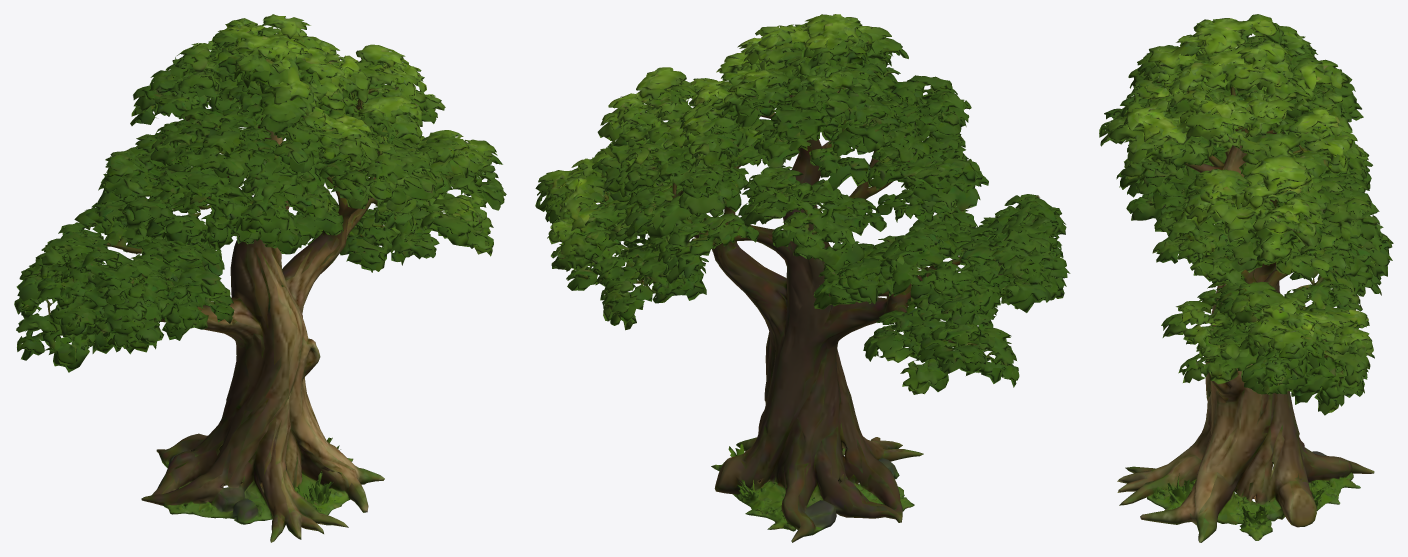
Rendered from oakTree.glb.
3 renders of one model, left to right at view 1: azimuth 30°, elevation 25°; view 2: azimuth 150°, elevation 25°; view 3: azimuth 270°, elevation 25°, orthographic.
Parts seen in each view (by area): view 1: world; view 2: world; view 3: world.
Boxes of the visible parts, x1,y1,x2,y2 form: world: [14, 14, 506, 542]; world: [535, 14, 1070, 542]; world: [1099, 14, 1393, 542].
Size of the model in its own units: 0.9909 by 0.8808 by 0.5057.
1 material, 1 textured.
